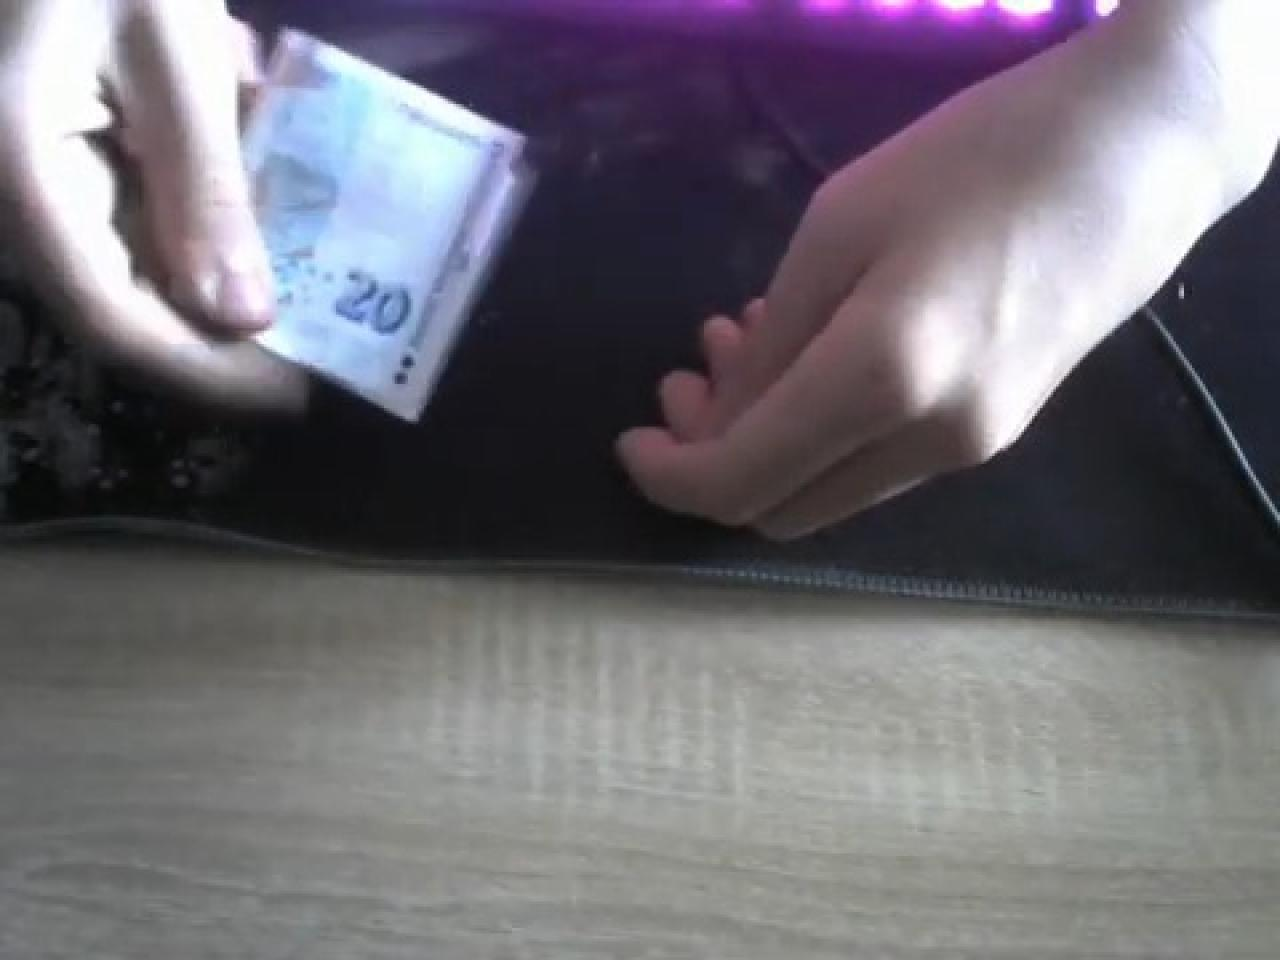20leva: (237, 32, 536, 430)
